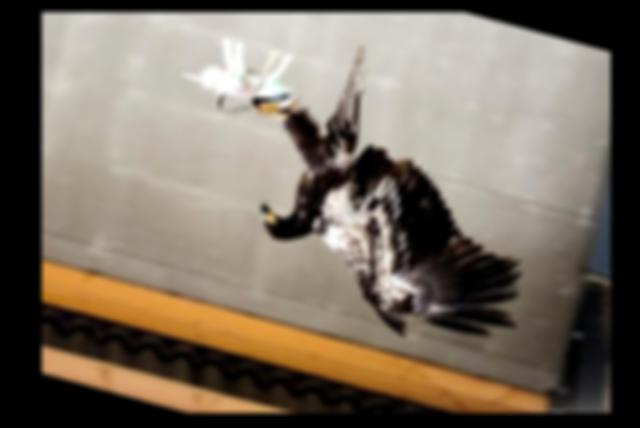Bird: (260, 45, 525, 345)
UAV: (186, 30, 304, 117)
